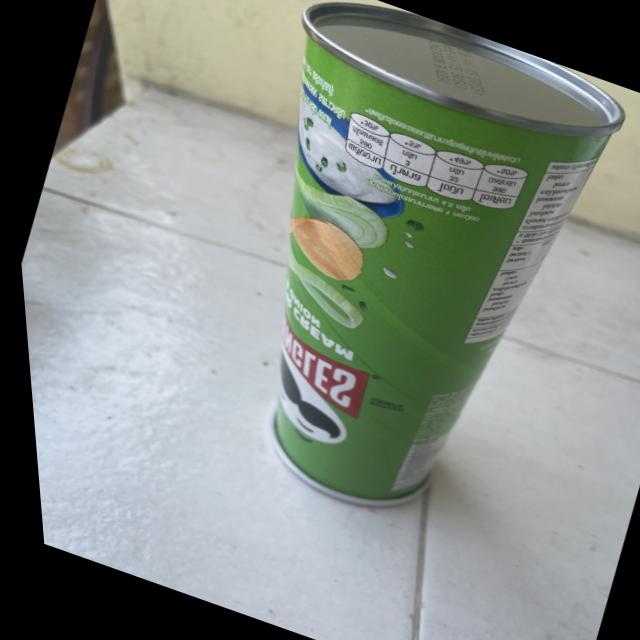a pringles: (140, 0, 640, 562)
